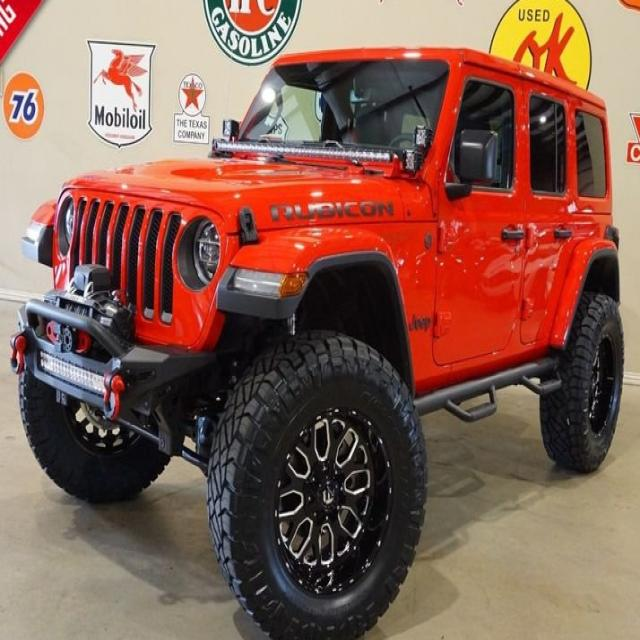red: (28, 39, 640, 542)
